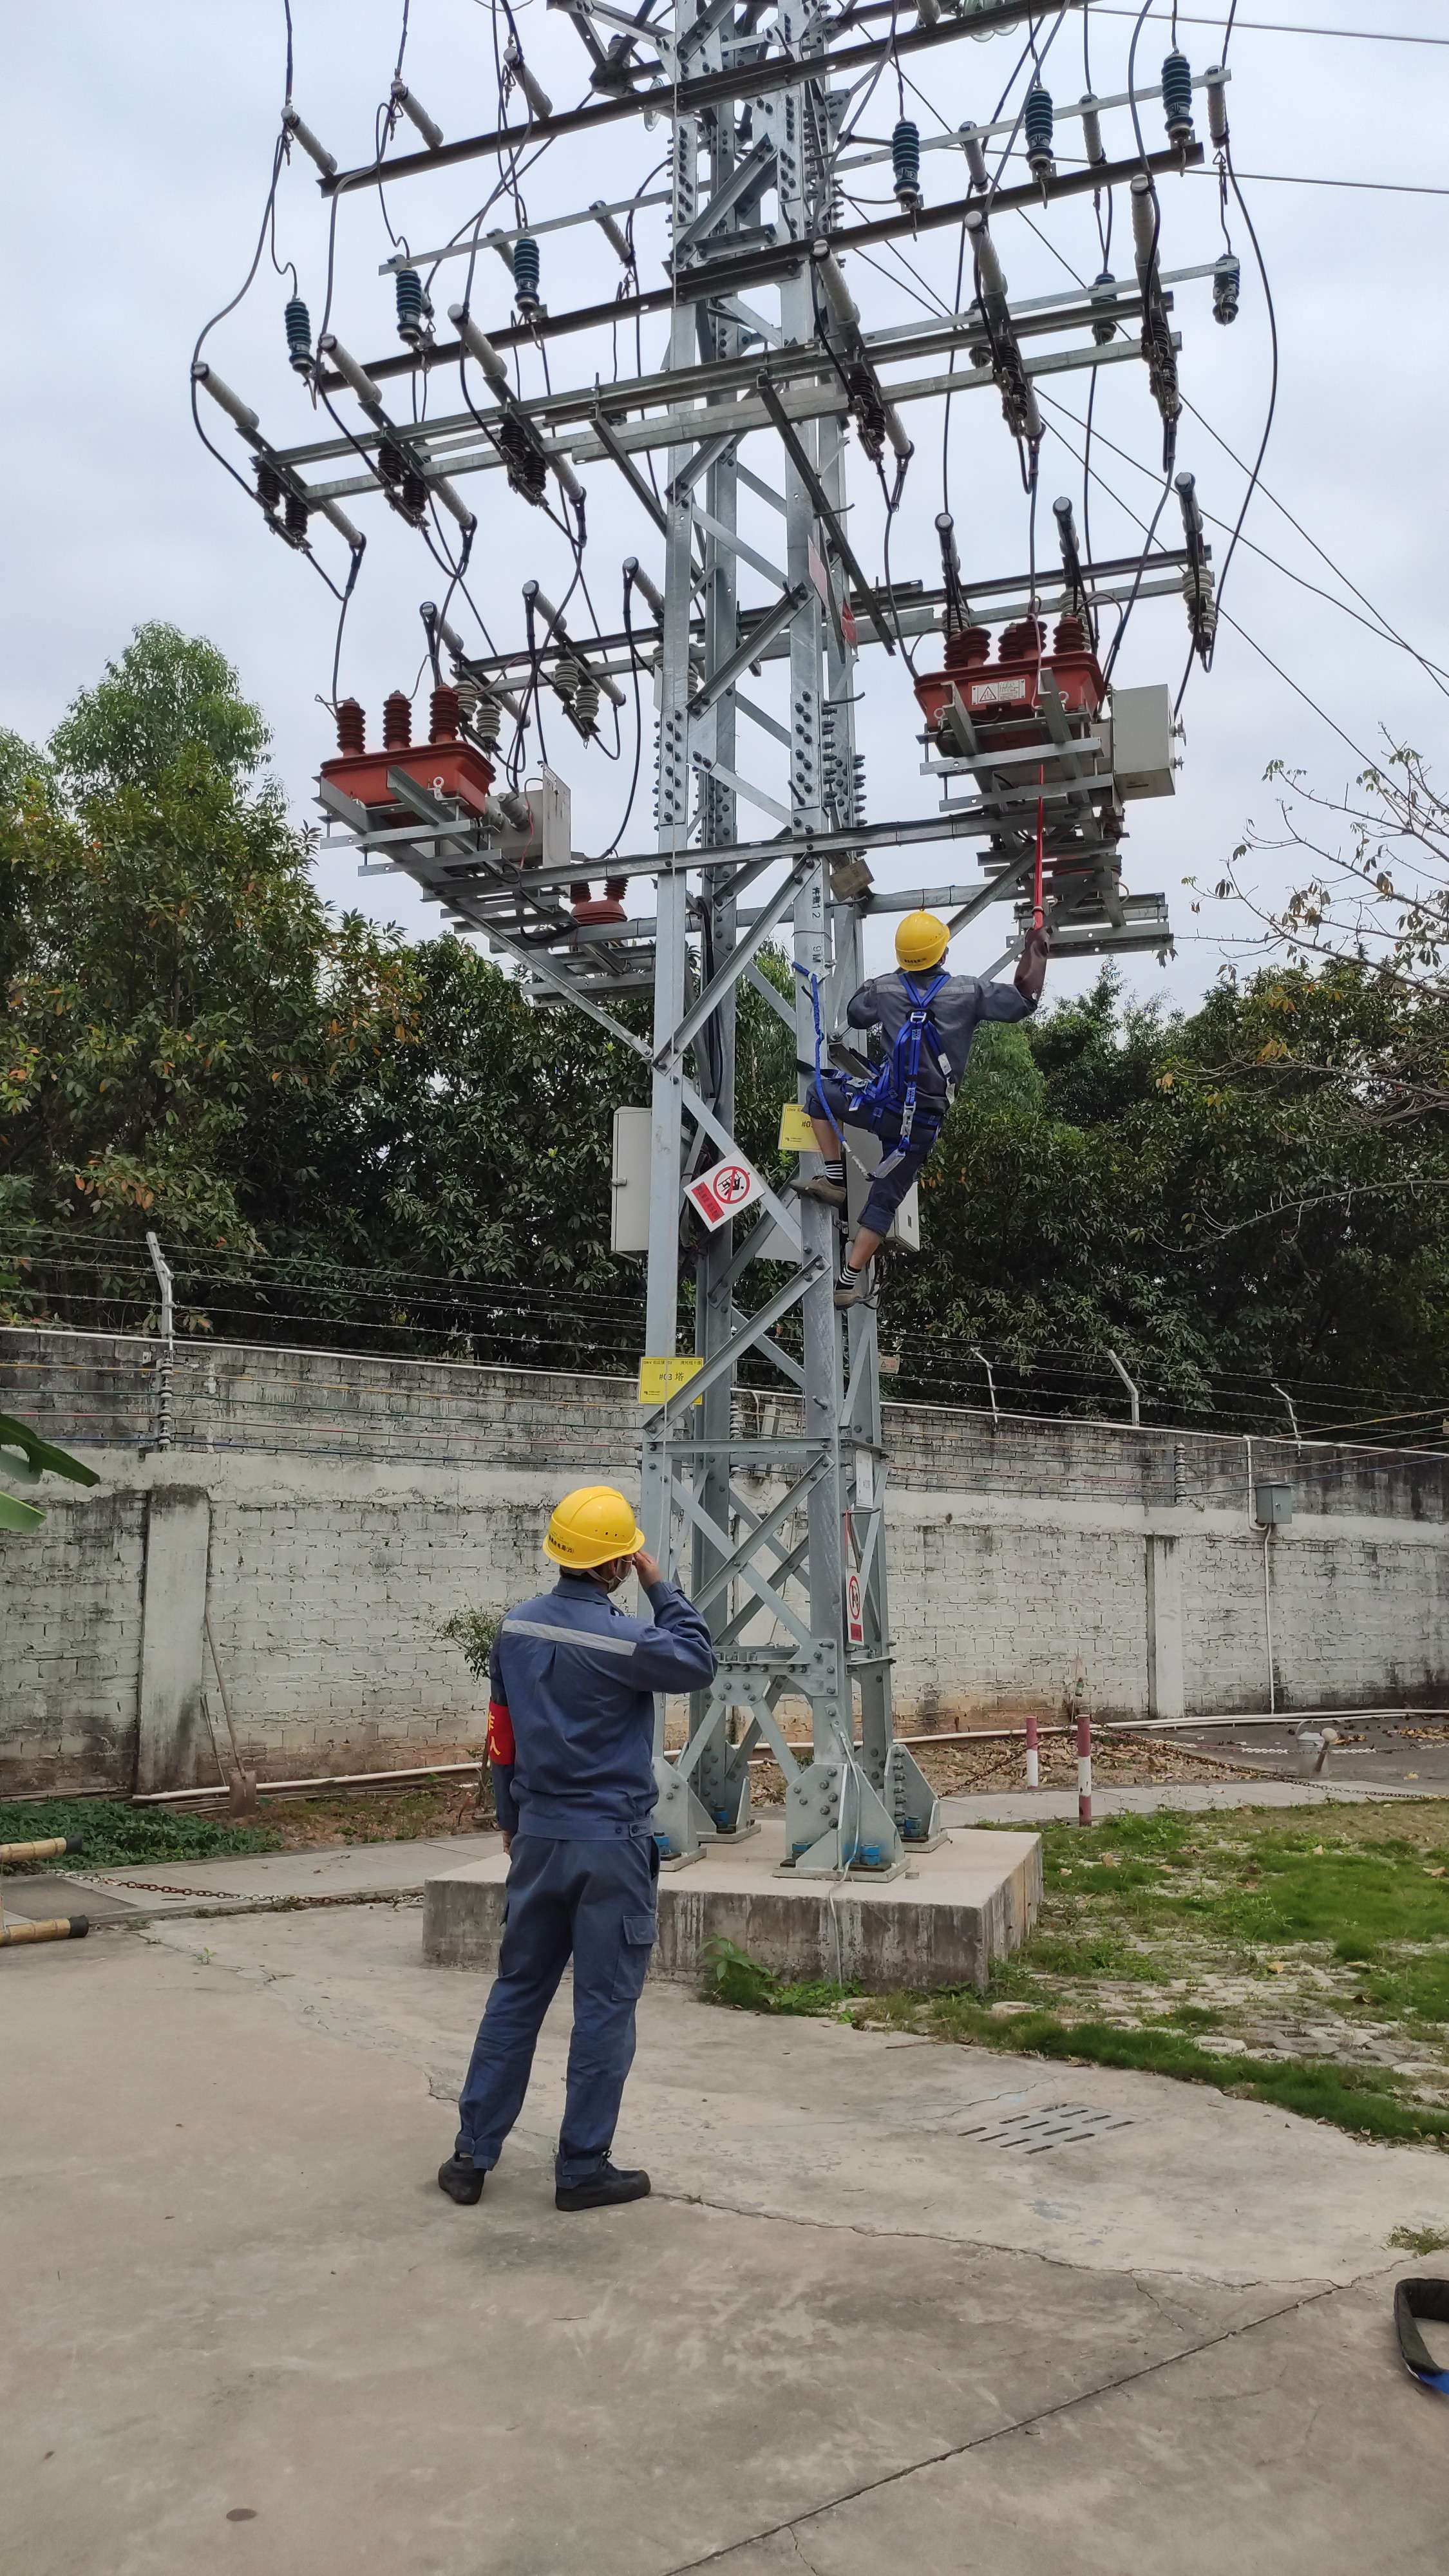downsuit: (456, 1849, 663, 2166), (839, 1116, 959, 1237)
upsuit: (485, 1583, 722, 1833), (862, 970, 1017, 1086)
wrongbottom: (844, 1215, 888, 1277), (807, 1106, 847, 1168)
